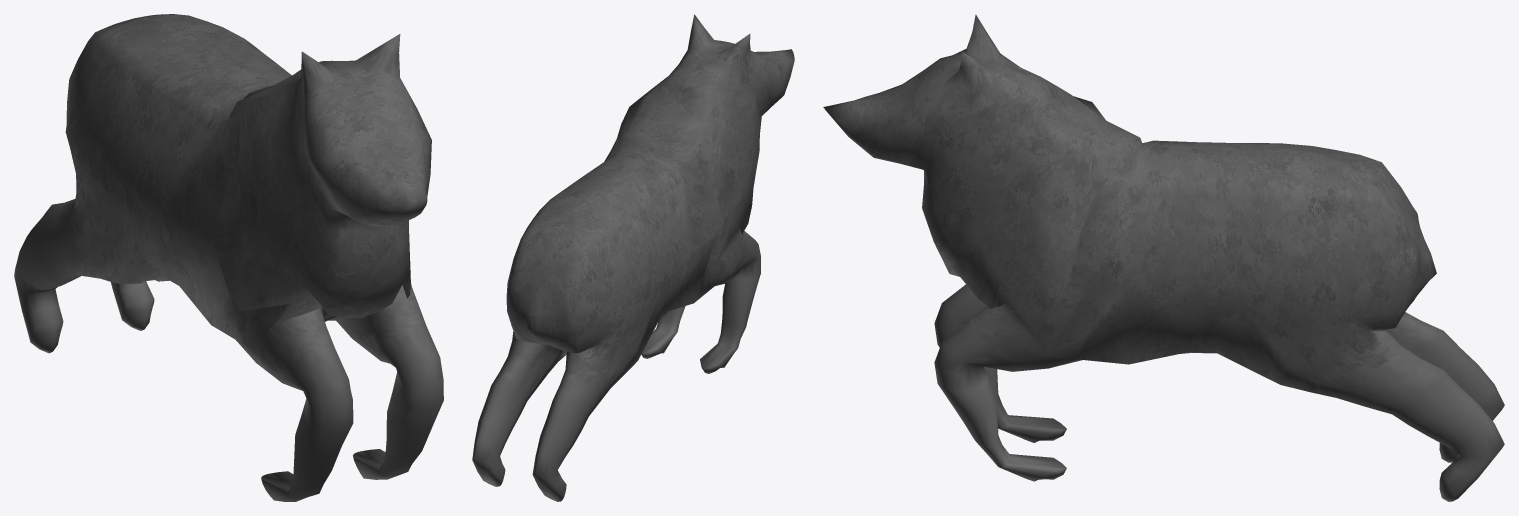
The model's file is piesblend_000011.obj.
3 renders of one model, left to right at view 1: azimuth 30°, elevation 25°; view 2: azimuth 150°, elevation 25°; view 3: azimuth 270°, elevation 25°, orthographic. The views are drawn at different scales.
Parts seen in each view (by area): view 1: Cube; view 2: Cube; view 3: Cube.
Part boxes in pixels (x1=…): Cube: x1=14, y1=14, x2=443, y2=501; Cube: x1=472, y1=14, x2=794, y2=501; Cube: x1=823, y1=14, x2=1504, y2=501.
Size of the model in its own units: 2.55 by 6.6 by 9.22.
Materials: 1 (1 with a texture image).
